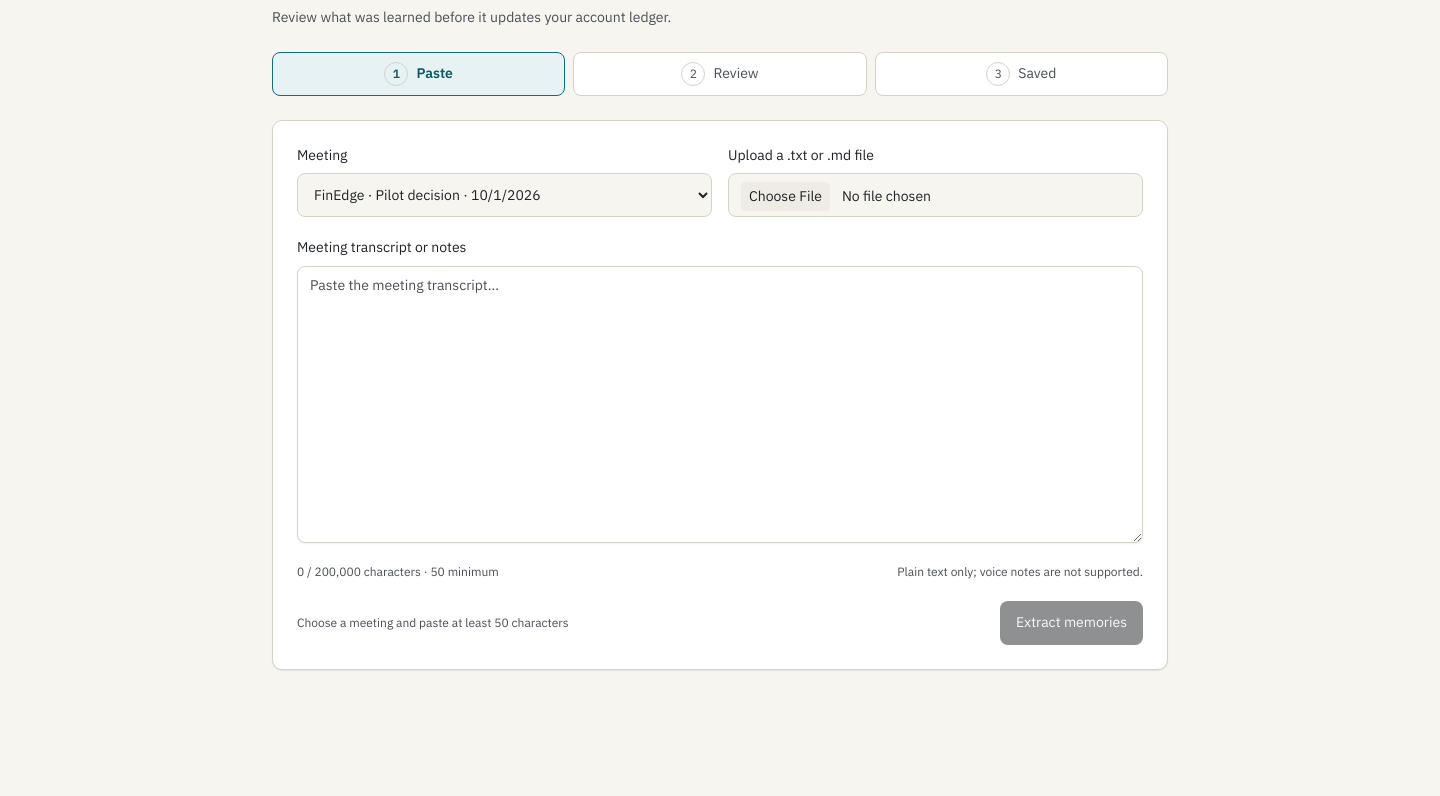
it: Capture page › discards an open preview without attempting save
Select "FinEdge · Pilot decision · 10/1/2026" in the dropdown named "Choose meeting" at (504, 195), box [297,173,712,217]
Type "A sufficiently long test transcript with more than fifty characters to be accepted." into the text box labelled "Meeting transcript or notes" at (720, 405), box [297,266,1143,543]
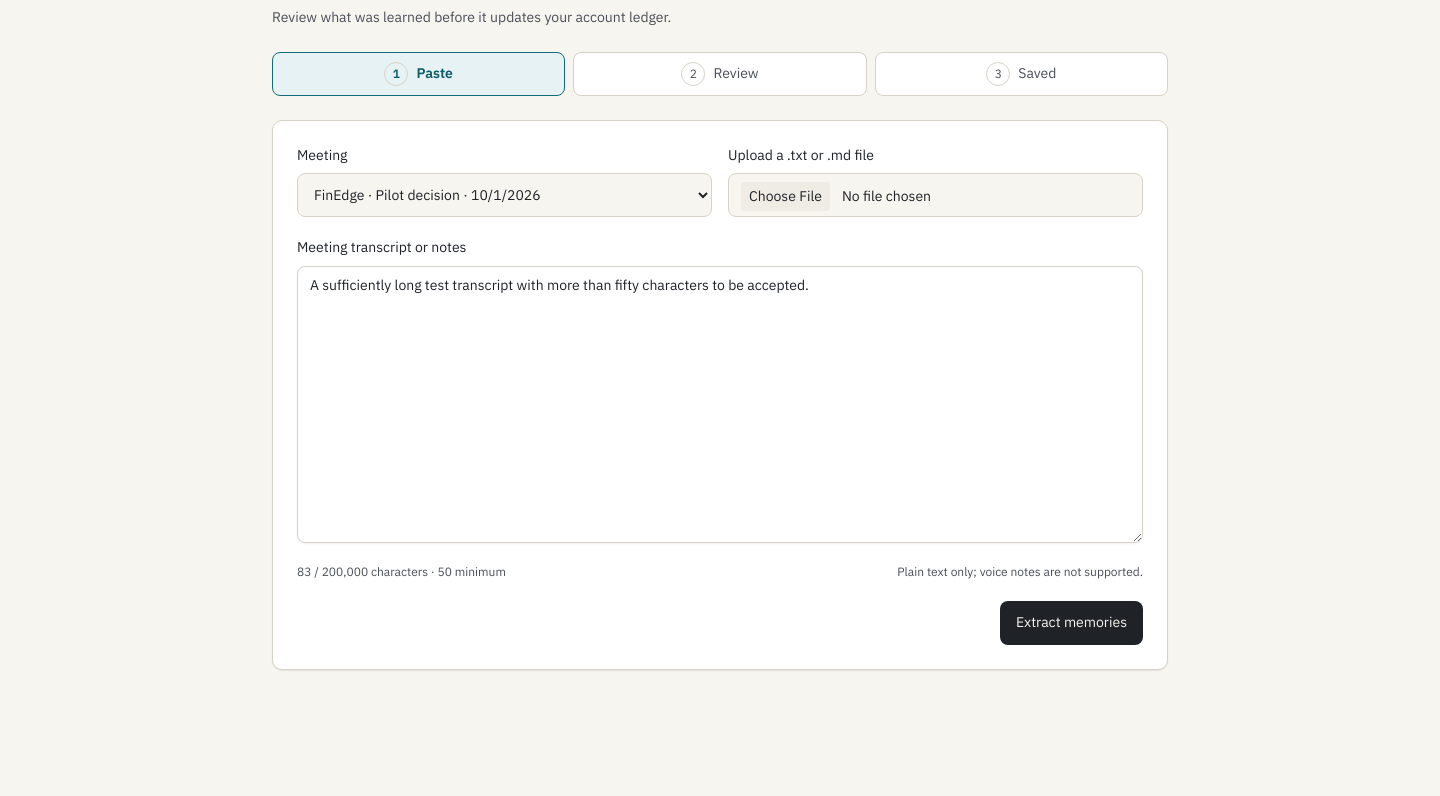
Click the button "Extract memories" at (1071, 623), box [1000,601,1143,645]
(page scrolled)
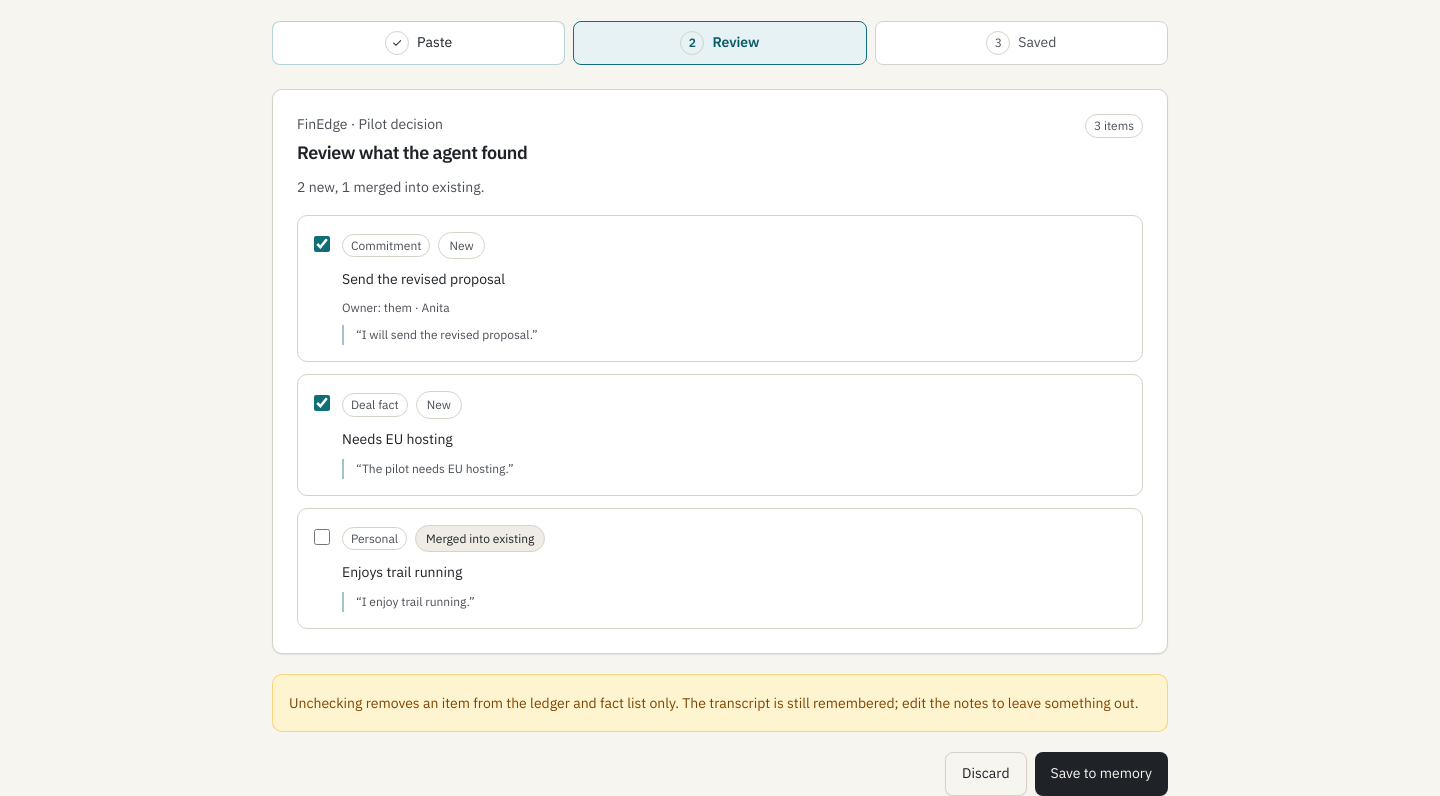
Expected: the heading "Review what the agent found" is shown, [297,140,527,165]
Click the button "Discard" at (986, 774), box [945,752,1026,795]
(page scrolled)
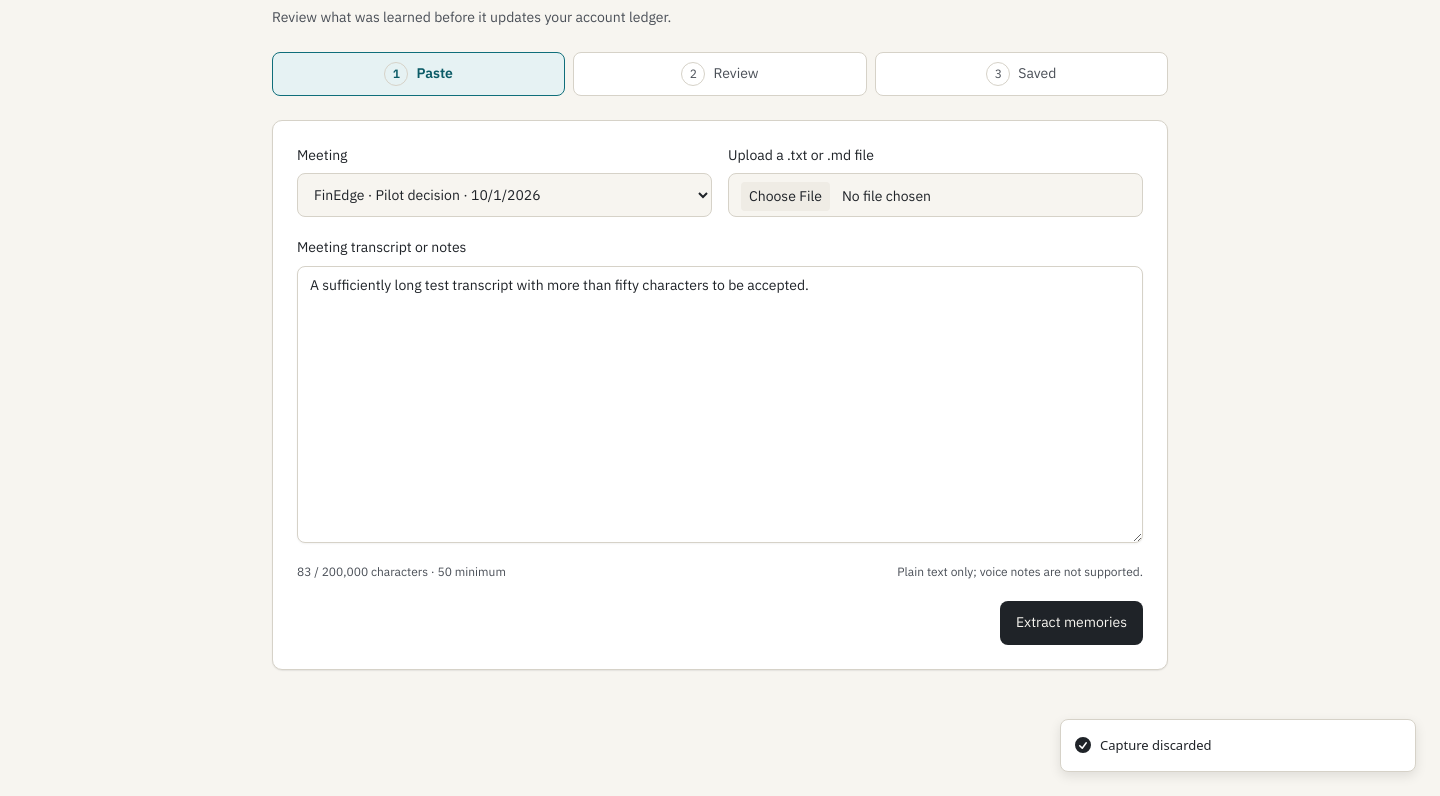
Expected: the button "Extract memories" is shown, [1000,601,1143,645]
